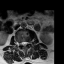CCS_normal: (23, 39, 25, 48)
LFS_normal: (27, 38, 30, 45)
LLS_normal: (25, 39, 27, 46)
RFS_normal: (19, 39, 21, 47)
RLS_normal: (21, 39, 23, 47)
